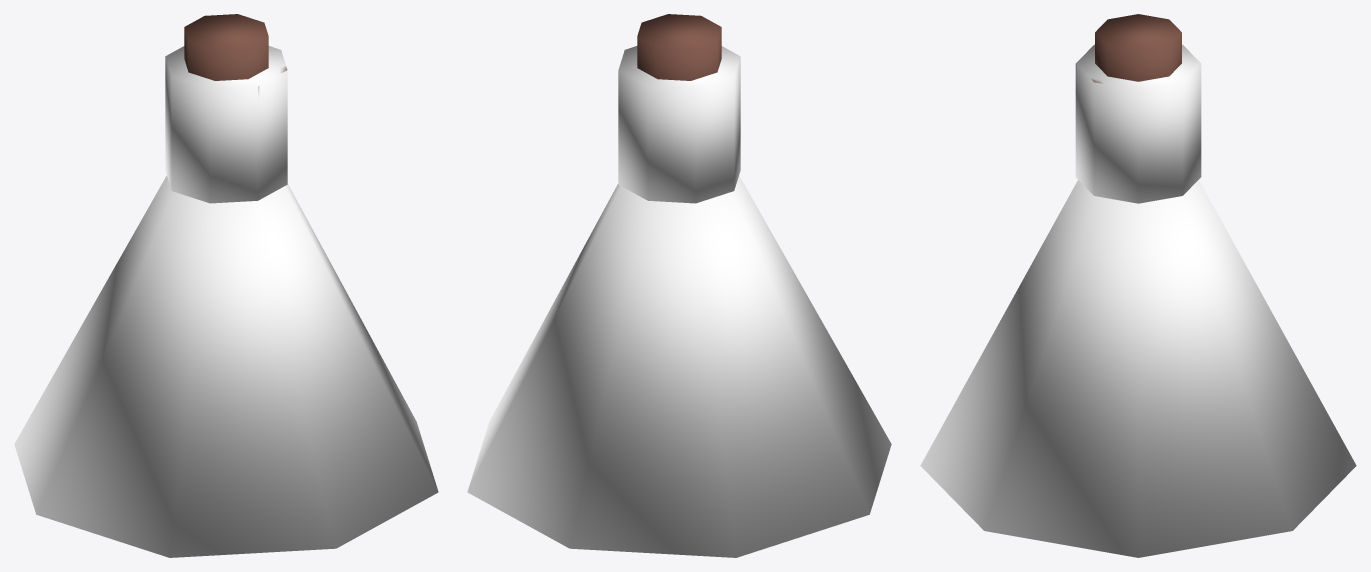
File: potion 2.fbx
The picture shows the model from 3 angles, left to right: view 1: azimuth 30°, elevation 25°; view 2: azimuth 150°, elevation 25°; view 3: azimuth 270°, elevation 25°; orthographic projection.
Visible parts, largest first — view 1: potion2, cork2; view 2: potion2, cork2; view 3: potion2, cork2.
Boxes of the visible parts, left/top/right/bottom form: potion2: left=14, top=46, right=438, bottom=557; cork2: left=184, top=14, right=268, bottom=80; potion2: left=467, top=46, right=891, bottom=557; cork2: left=637, top=14, right=721, bottom=80; potion2: left=920, top=44, right=1356, bottom=557; cork2: left=1095, top=14, right=1181, bottom=81.
Bounding box in the file's own units: 18.92 × 20.73 × 18.92.
